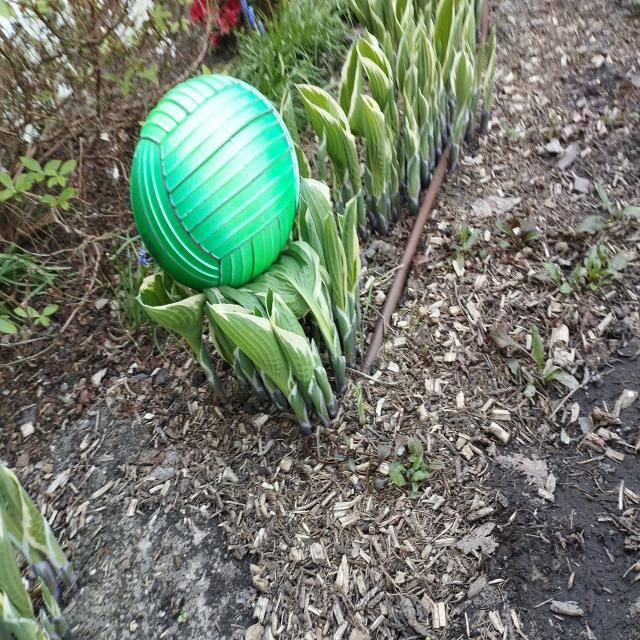zielona: (129, 74, 299, 292)
